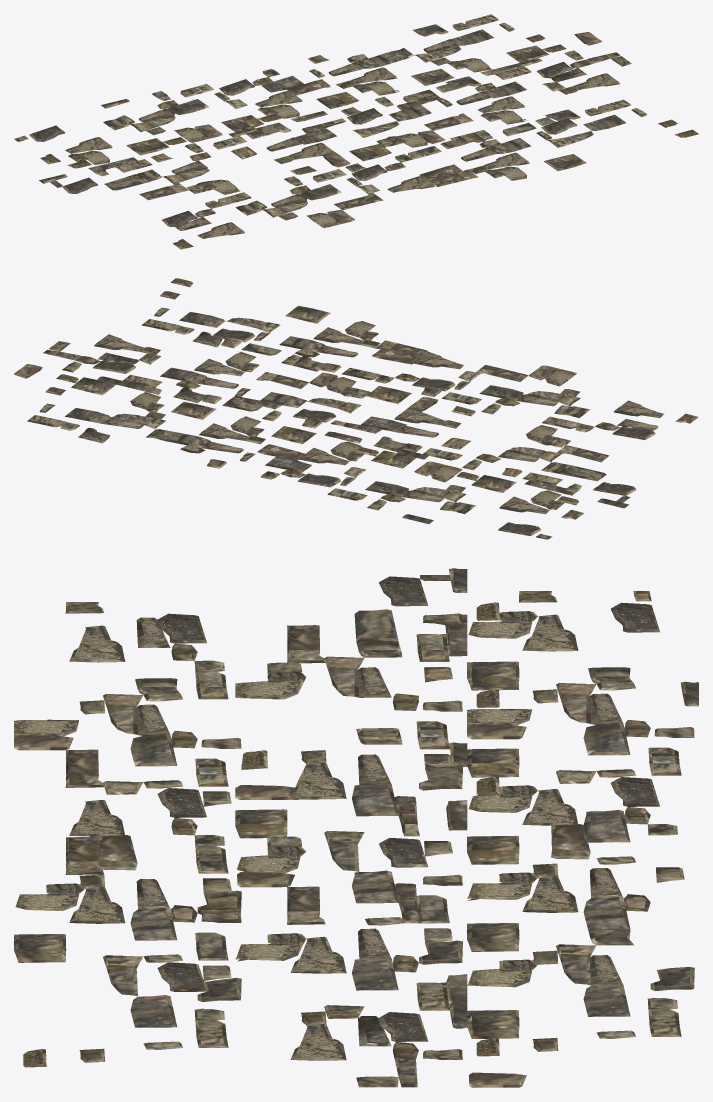
The model's file is rockfloor.FBX.
3 views of the same model, one above another, from view 1: azimuth 30°, elevation 25°; view 2: azimuth 150°, elevation 25°; view 3: azimuth 270°, elevation 25° (orthographic). The views are drawn at different scales.
Parts seen in each view (by area): view 1: _O_OBJ_group438; view 2: _O_OBJ_group438; view 3: _O_OBJ_group438.
Boxes of the visible parts, left/top/right/bottom form: _O_OBJ_group438: left=14, top=14, right=698, bottom=249; _O_OBJ_group438: left=14, top=278, right=698, bottom=539; _O_OBJ_group438: left=14, top=568, right=698, bottom=1087.
Size of the model in its own units: 5626 by 13.38 by 3140.
1 material, 1 textured.
